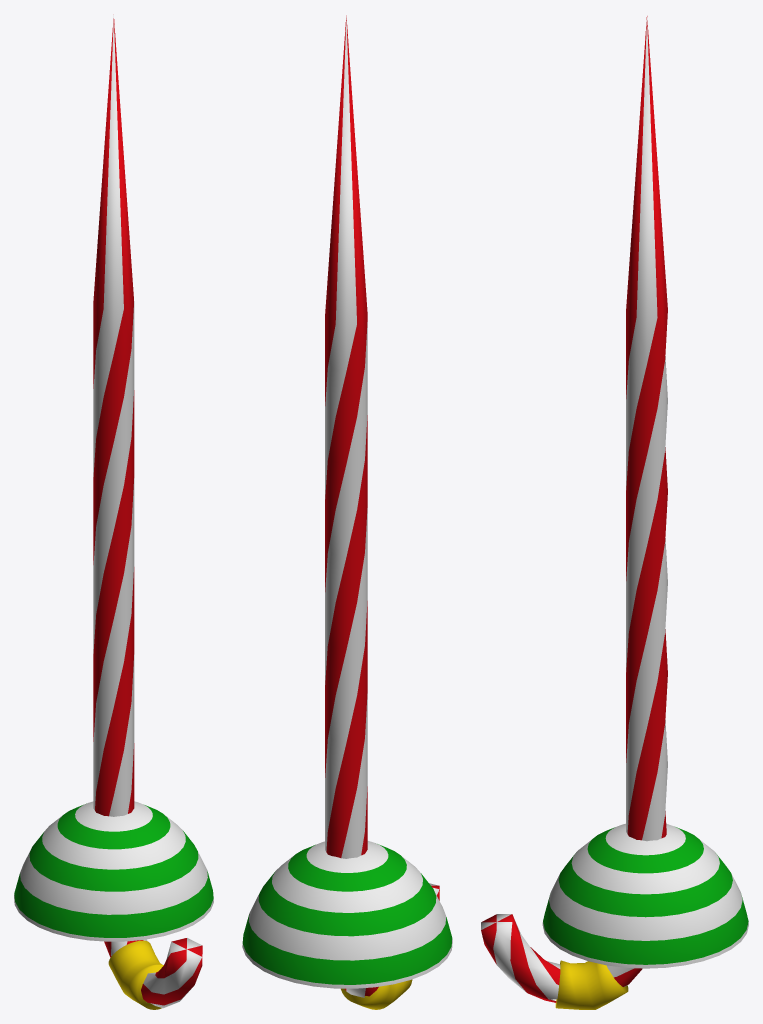
The model's file is Rapiers _Doce.fbx.
3 renders of one model, left to right at view 1: azimuth 30°, elevation 25°; view 2: azimuth 150°, elevation 25°; view 3: azimuth 270°, elevation 25°, orthographic. The views are drawn at different scales.
Parts seen in each view (by area): view 1: Cylinder.001; view 2: Cylinder.001; view 3: Cylinder.001.
Part boxes in pixels (x1,y1,x2,y2): Cylinder.001: (14, 14, 213, 1009); Cylinder.001: (242, 15, 452, 1009); Cylinder.001: (481, 16, 748, 1009).
Size of the model in its own units: 197 by 1045 by 255.
